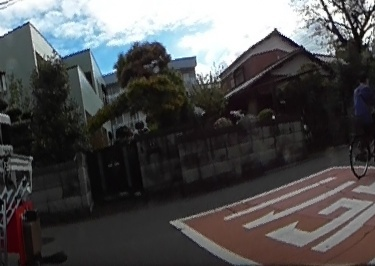person: (351, 71, 375, 163)
